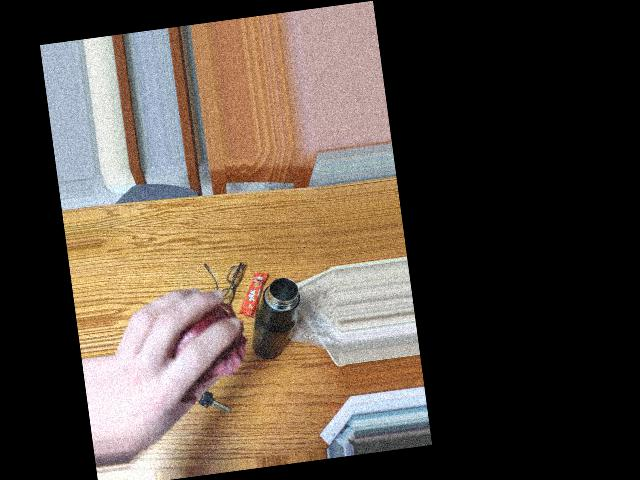onion: (156, 299, 235, 399)
